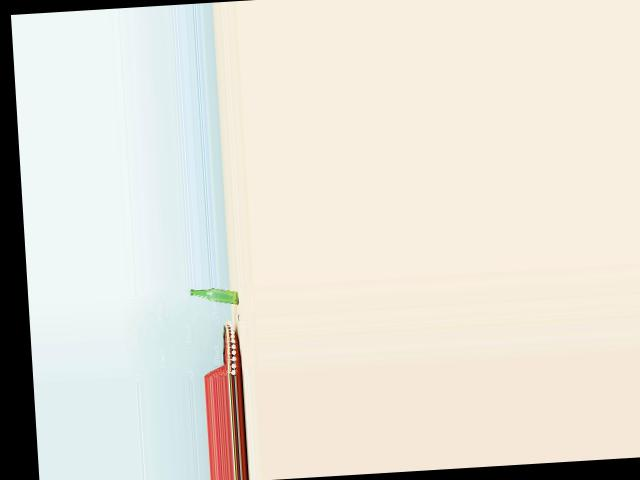beer: (189, 286, 239, 307)
